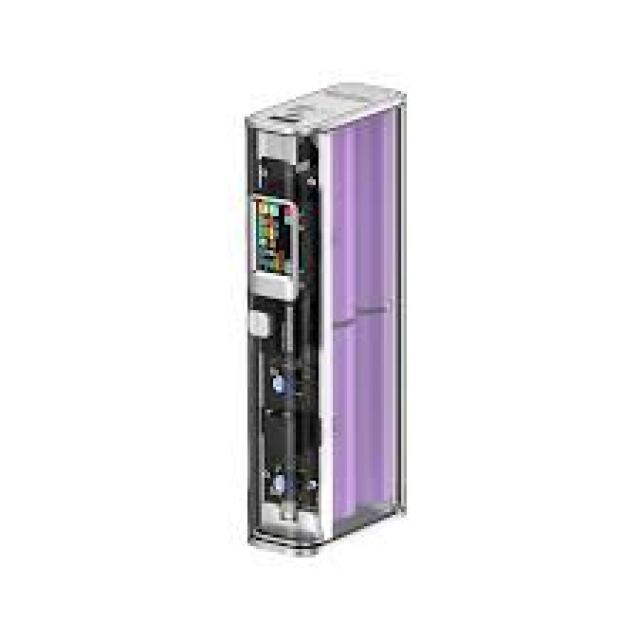portable-charger: (240, 75, 420, 559)
